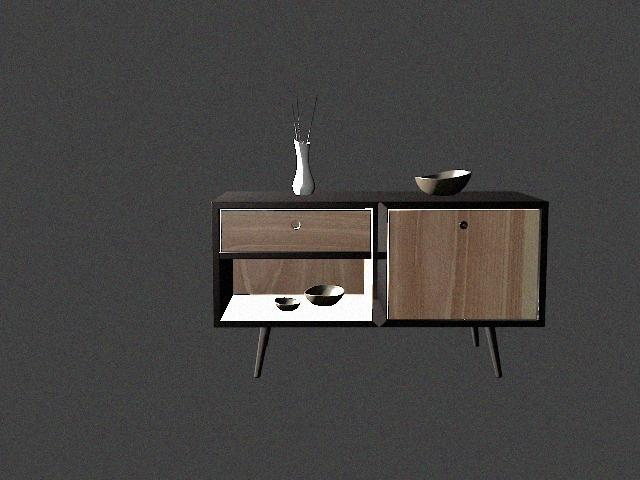cabinet_door: (388, 209, 539, 320), (219, 209, 372, 251)
handle: (456, 218, 474, 234), (289, 216, 305, 234)
